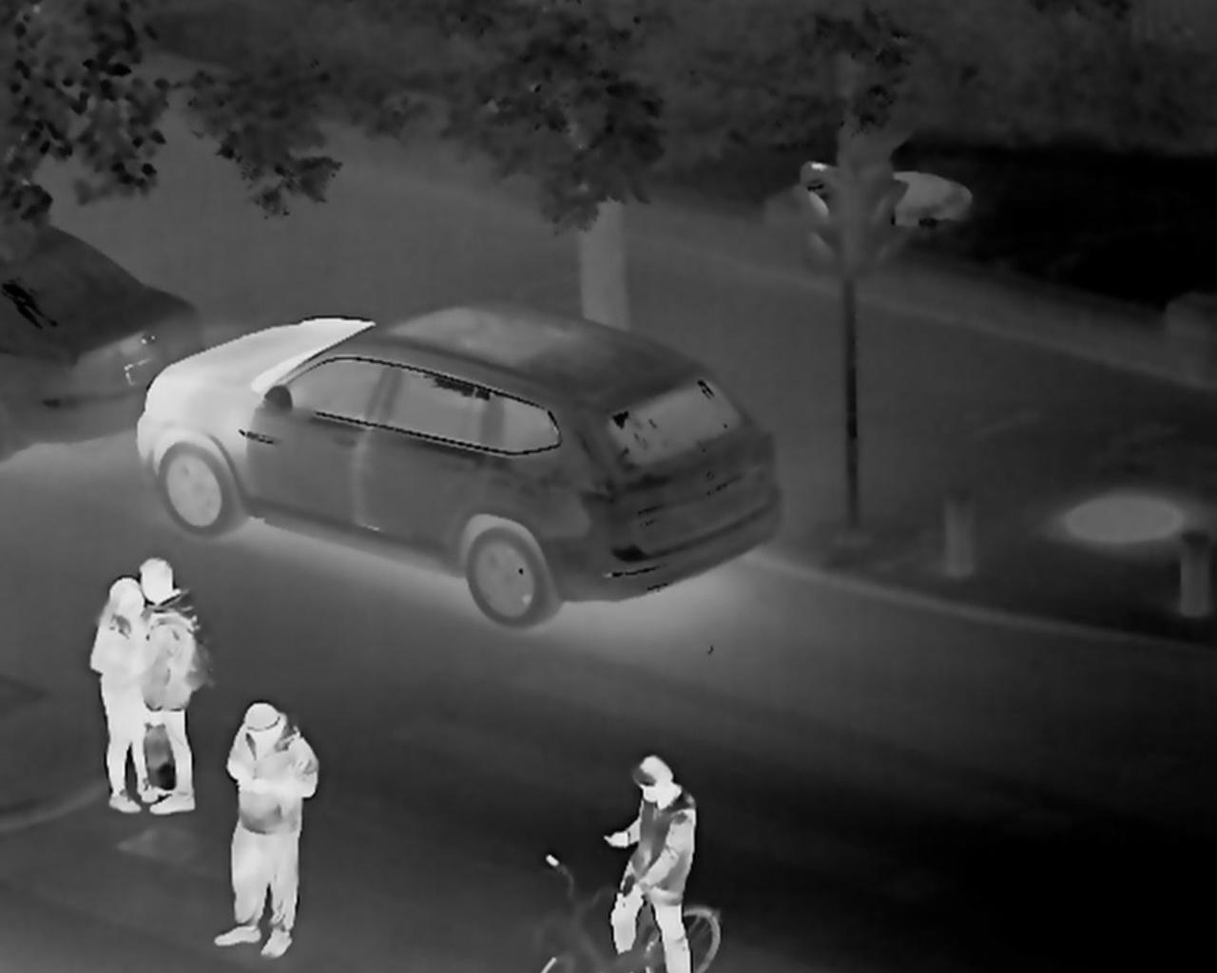person: (222, 696, 318, 957), (599, 753, 692, 973), (134, 556, 211, 815), (90, 578, 159, 812)
